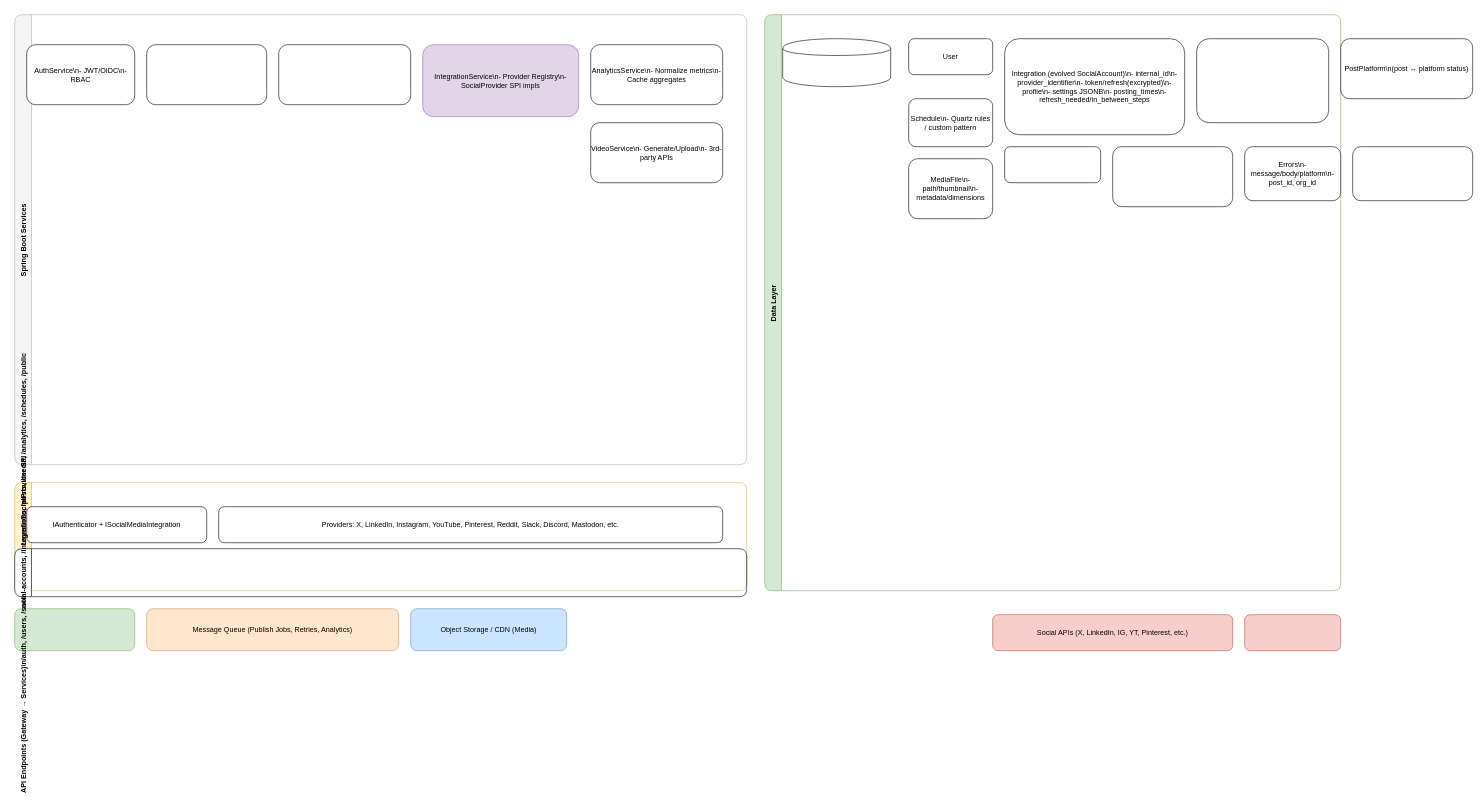
Some shapes in this 1483 by 803 pixel diagram are drawn without their labels. The box of each missing label's shape, as (x1, y1, x2, y2) in pixels:
Analytics\n- metric_type/value/time\n- platform_data JSONB: (1112, 146, 1233, 207)
ContentService\n- Posts CRUD\n- Media mgmt: (146, 44, 267, 105)
Post\n- state/publishDate\n- releaseId/url\n- integration_id\n- error link: (1196, 38, 1329, 123)
PostgreSQL (RLS): (782, 38, 891, 87)
Redis (Cache/Sessions): (14, 608, 135, 651)
SchedulingService\n- Quartz triggers\n- Enqueue jobs: (278, 44, 411, 105)
Template: (1004, 146, 1101, 183)
Video APIs (Plainly/Creatomate): (1244, 614, 1341, 651)
Webhooks + Integrations_Webhooks: (1352, 146, 1473, 201)
